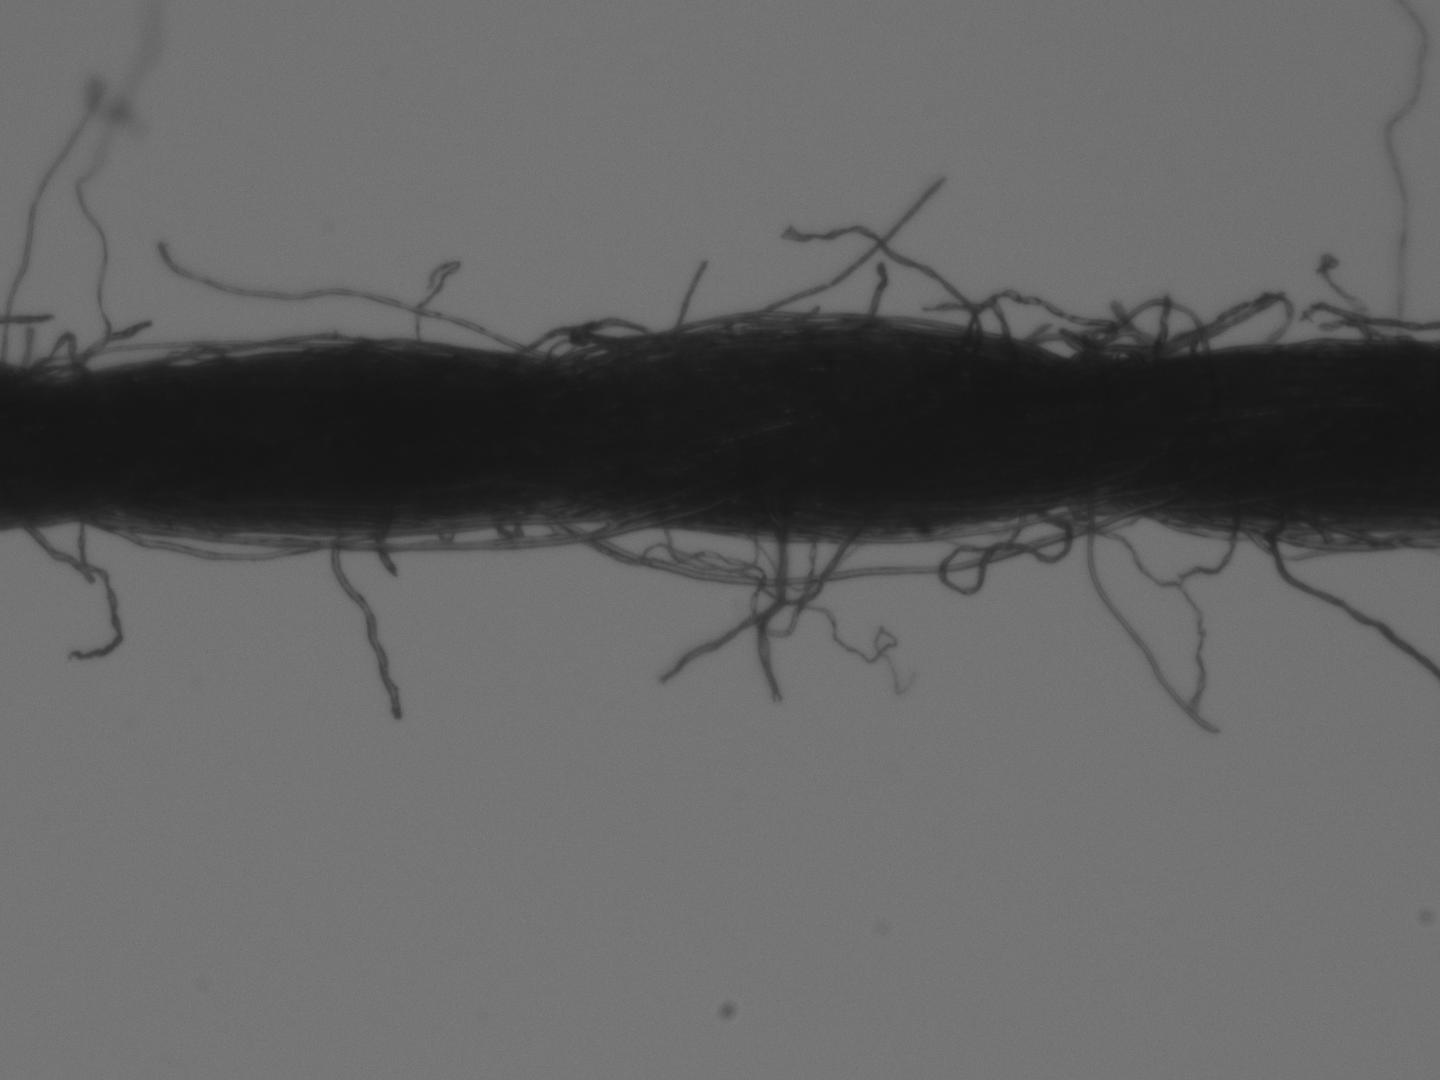loop_fiber: (550, 503, 1144, 589), (1084, 500, 1230, 734), (197, 515, 658, 559), (1050, 501, 1238, 589), (958, 282, 1115, 360), (96, 524, 366, 565), (1169, 286, 1296, 352), (1101, 290, 1217, 360), (514, 315, 650, 361), (1242, 518, 1370, 564), (210, 328, 392, 360), (26, 332, 91, 383), (152, 344, 225, 369)
protruding_fiber: (653, 523, 875, 690), (752, 168, 949, 315), (325, 528, 404, 722), (752, 523, 796, 700), (670, 256, 711, 330), (865, 262, 884, 320)
